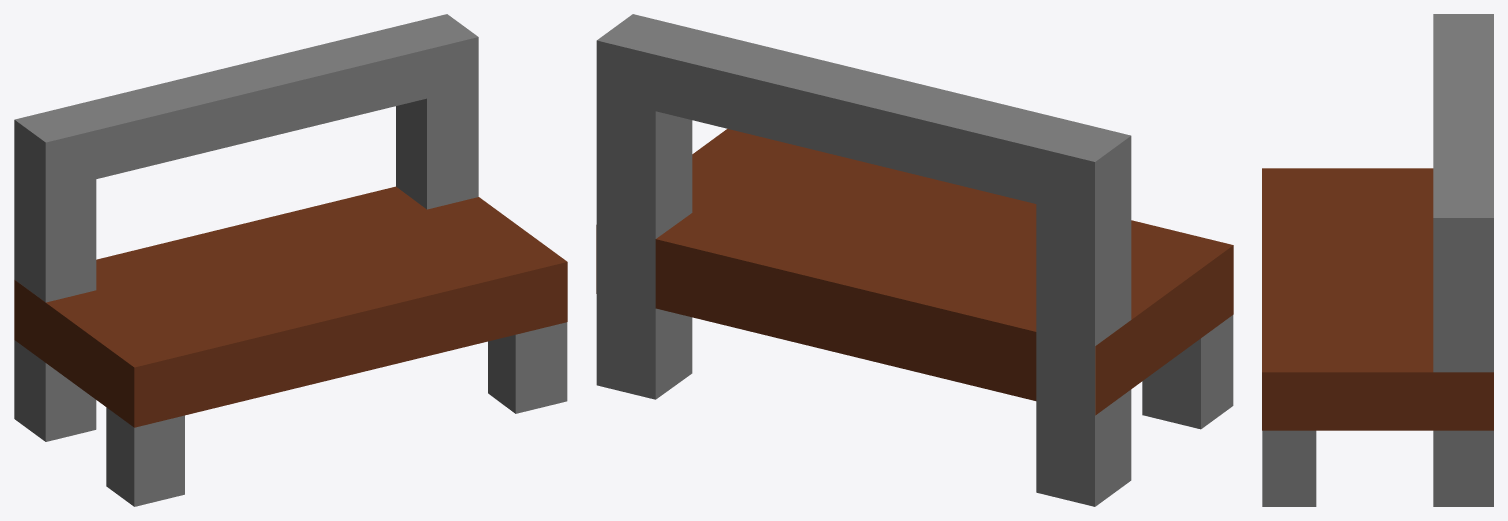
Rendered from bench_05.fbx.
3 views of the same model, side by side, from view 1: azimuth 30°, elevation 25°; view 2: azimuth 150°, elevation 25°; view 3: azimuth 270°, elevation 25° (orthographic). The views are drawn at different scales.
Visible parts, largest first — view 1: bench_05; view 2: bench_05; view 3: bench_05.
Boxes of the visible parts, box(x1,y1,x2,y2) form: bench_05: box(14, 14, 567, 506); bench_05: box(596, 14, 1233, 506); bench_05: box(1262, 14, 1493, 506).
Bounding box in the file's own units: 116 × 76.48 × 55.6.
